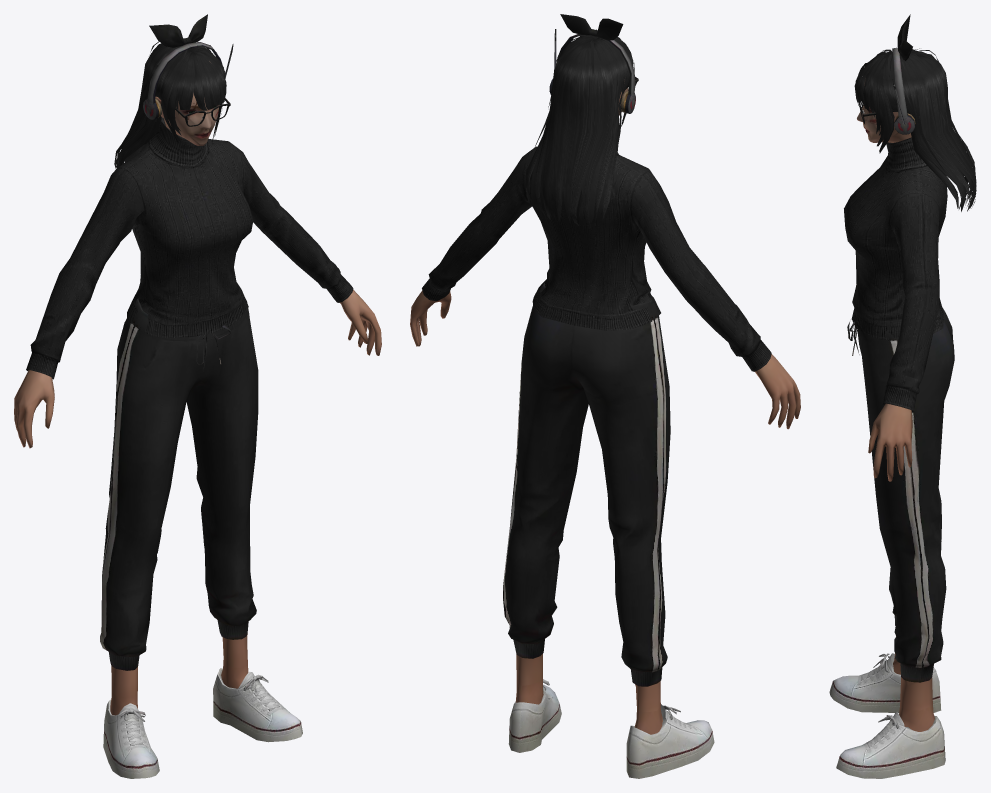
File: ff-black.glb
3 views of the same model, side by side, from view 1: azimuth 30°, elevation 25°; view 2: azimuth 150°, elevation 25°; view 3: azimuth 270°, elevation 25° (orthographic). The views are drawn at different scales.
Visible parts, largest first — view 1: Object_4, Object_5, Object_3, Object_2, Object_8, Object_7; view 2: Object_4, Object_5, Object_8, Object_3, Object_2, Object_7; view 3: Object_4, Object_5, Object_8, Object_3, Object_2, Object_7.
Boxes of the visible parts, x1,y1,x2,y2 form: Object_4: (100,298,258,670); Object_5: (26,117,353,379); Object_3: (103,668,302,778); Object_2: (14,61,381,715); Object_8: (114,38,226,168); Object_7: (143,14,233,119); Object_4: (503,283,670,686); Object_5: (422,146,771,371); Object_8: (525,29,634,226); Object_3: (508,679,714,778); Object_2: (410,79,800,734); Object_7: (549,14,635,113); Object_4: (847,307,954,682); Object_5: (844,137,947,412); Object_8: (854,48,976,211); Object_3: (829,653,945,778); Object_2: (856,72,934,731); Object_7: (892,14,915,134).
Size of the model in its own units: 2.87 by 5.36 by 1.01.
7 materials, 7 textured.
